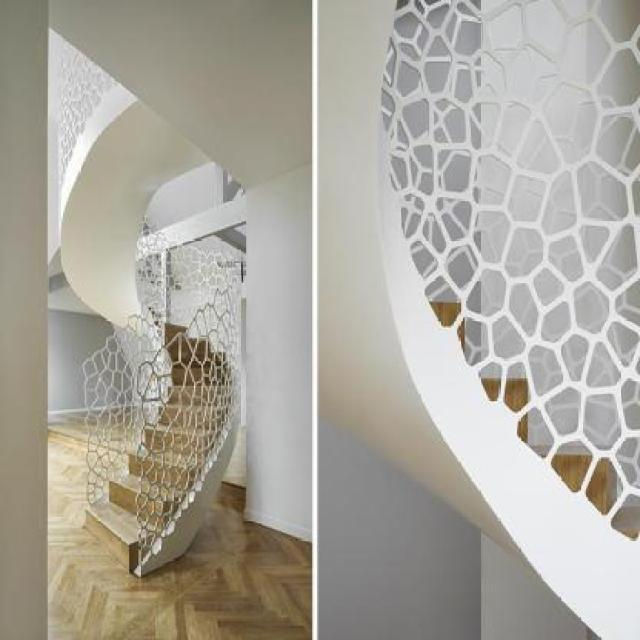stair: (101, 256, 234, 575)
